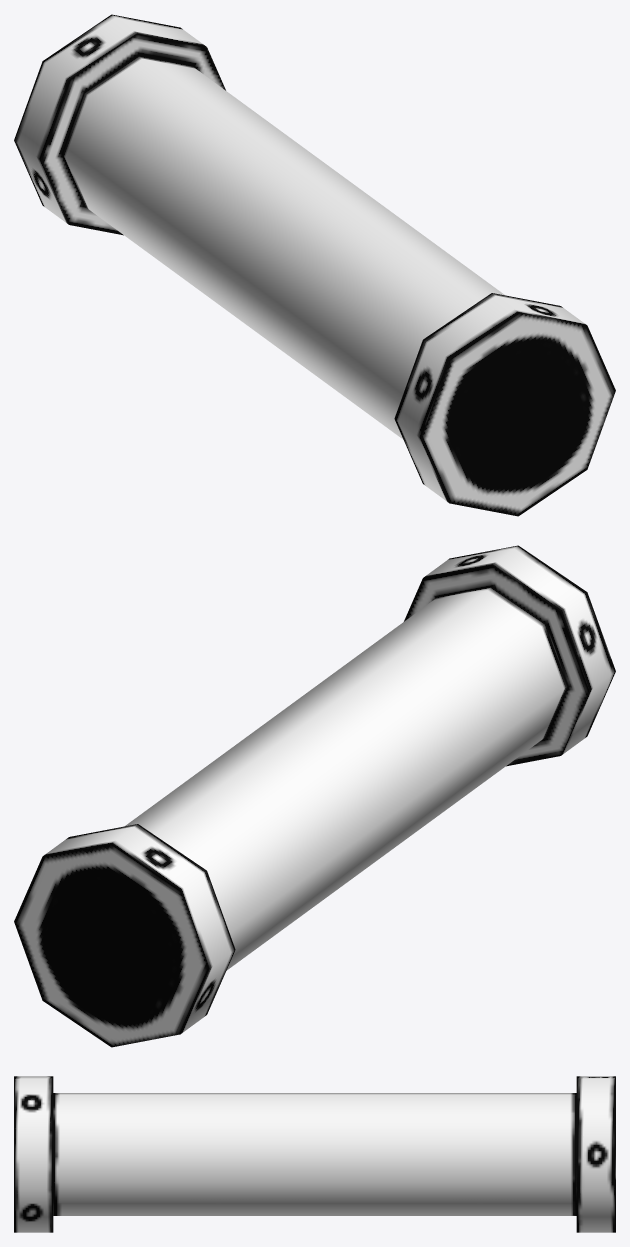
File: Pipe1.glb
3 views of the same model, one above another, from view 1: azimuth 30°, elevation 25°; view 2: azimuth 150°, elevation 25°; view 3: azimuth 270°, elevation 25° (orthographic). The views are drawn at different scales.
Parts seen in each view (by area): view 1: Pipe1; view 2: Pipe1; view 3: Pipe1.
Part boxes in pixels (x1,y1,x2,y2): Pipe1: [14, 14, 615, 516]; Pipe1: [14, 545, 615, 1047]; Pipe1: [14, 1076, 615, 1232].
Bounding box in the file's own units: 0.2801 × 0.2801 × 1.01.
1 material, 1 textured.
